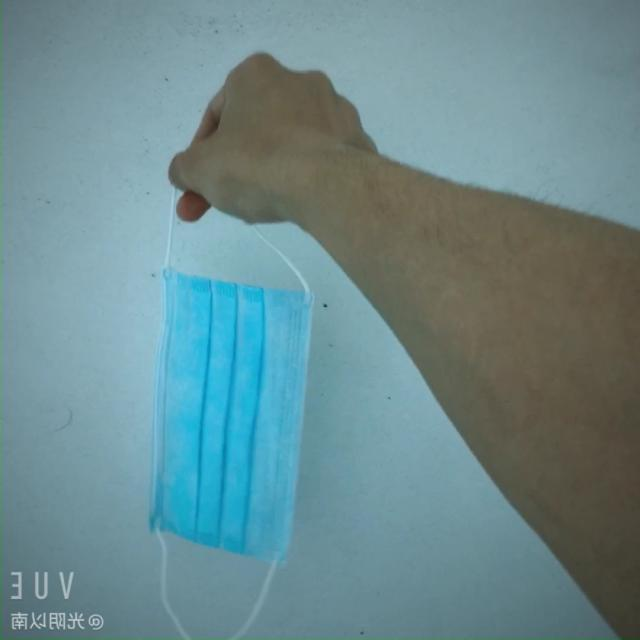face mask: (146, 254, 308, 558)
